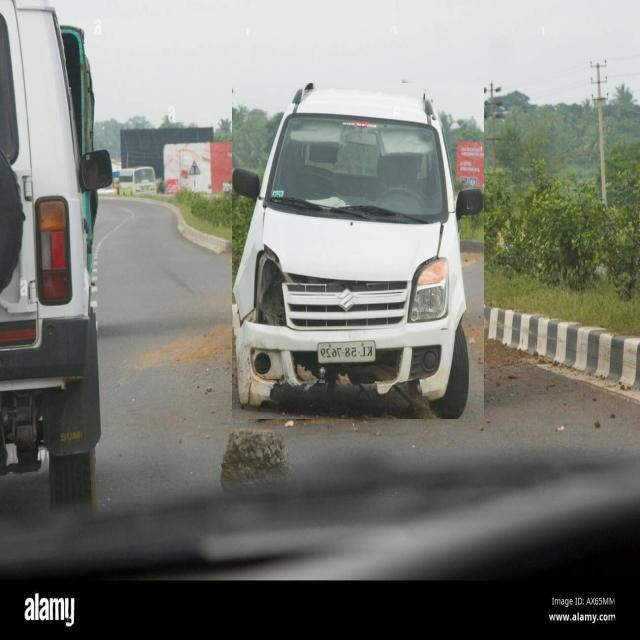accident: (232, 83, 484, 419)
